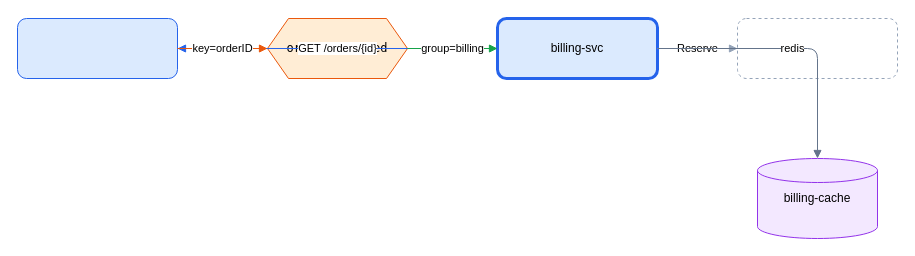
The diagram is 915 pixels wide and 256 high, and some of its shapes have lost their labels. Each missing label, with the box of its shape:
InventoryService ?: (736, 18, 898, 78)
orders-svc: (16, 18, 178, 78)
